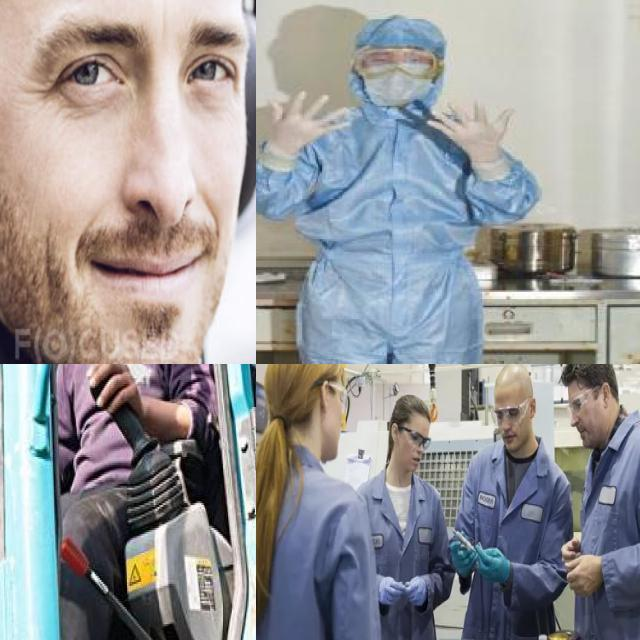Ear-protection: (0, 0, 256, 364)
No_Ear-Protection: (321, 380, 328, 411), (602, 382, 610, 408), (391, 423, 399, 443), (530, 398, 537, 418)
No_Glasses: (0, 0, 243, 141)
face_mask: (364, 42, 430, 106)
face_nomask: (570, 388, 609, 450), (499, 408, 534, 450), (396, 431, 423, 476)
glasses: (350, 43, 446, 85), (492, 399, 530, 427), (398, 424, 430, 452), (570, 387, 599, 415), (328, 380, 348, 414), (312, 380, 323, 390)
hand_glove: (266, 89, 353, 152), (432, 104, 522, 155), (475, 544, 510, 584), (450, 542, 478, 578), (378, 577, 406, 604), (405, 575, 426, 606)
hand_noglove: (81, 364, 141, 416), (562, 538, 603, 597)
head_nohelmet: (264, 364, 343, 430), (355, 10, 449, 63), (386, 394, 430, 464), (560, 364, 619, 401), (496, 364, 533, 397)
person: (256, 5, 544, 364), (42, 364, 212, 640)
